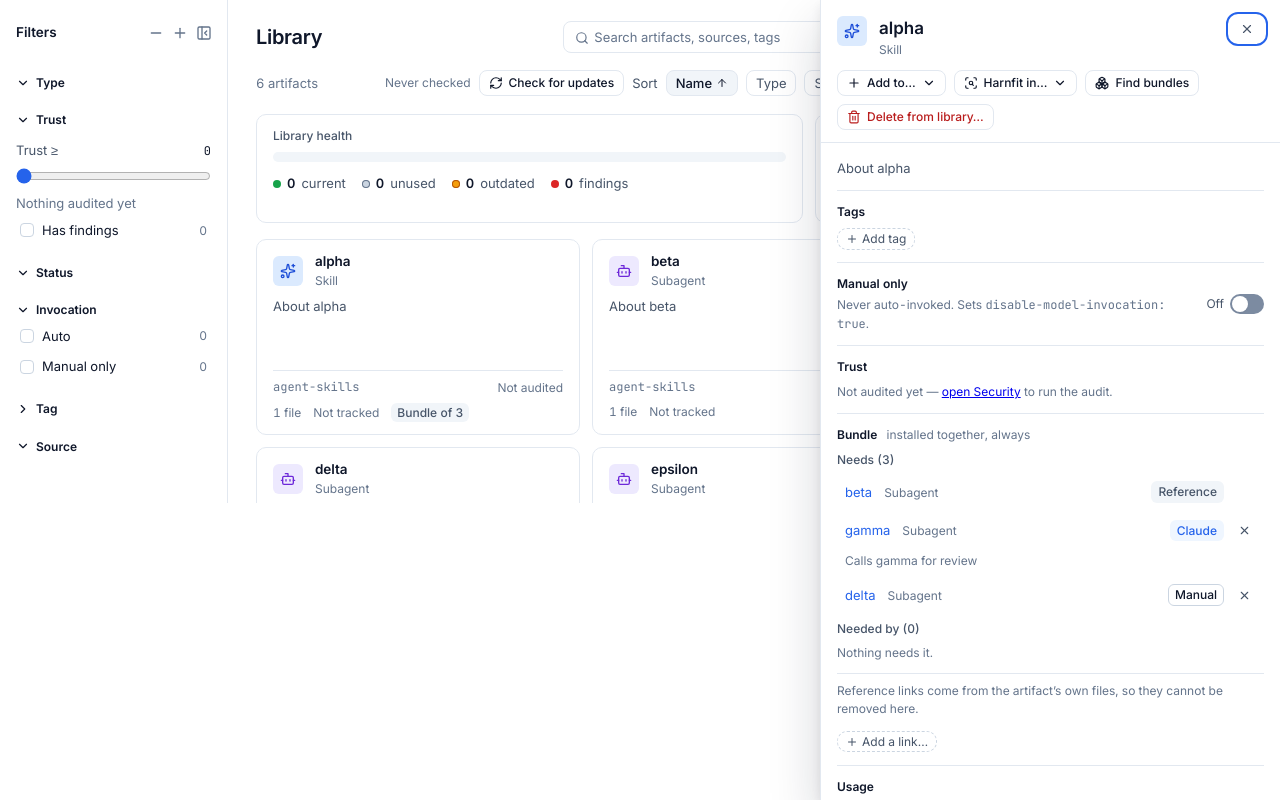
Test: bundles in the library › says when nothing matches and reports a failed add
Click the button "Add a link…" at point(887, 742), box [837,731,937,752]
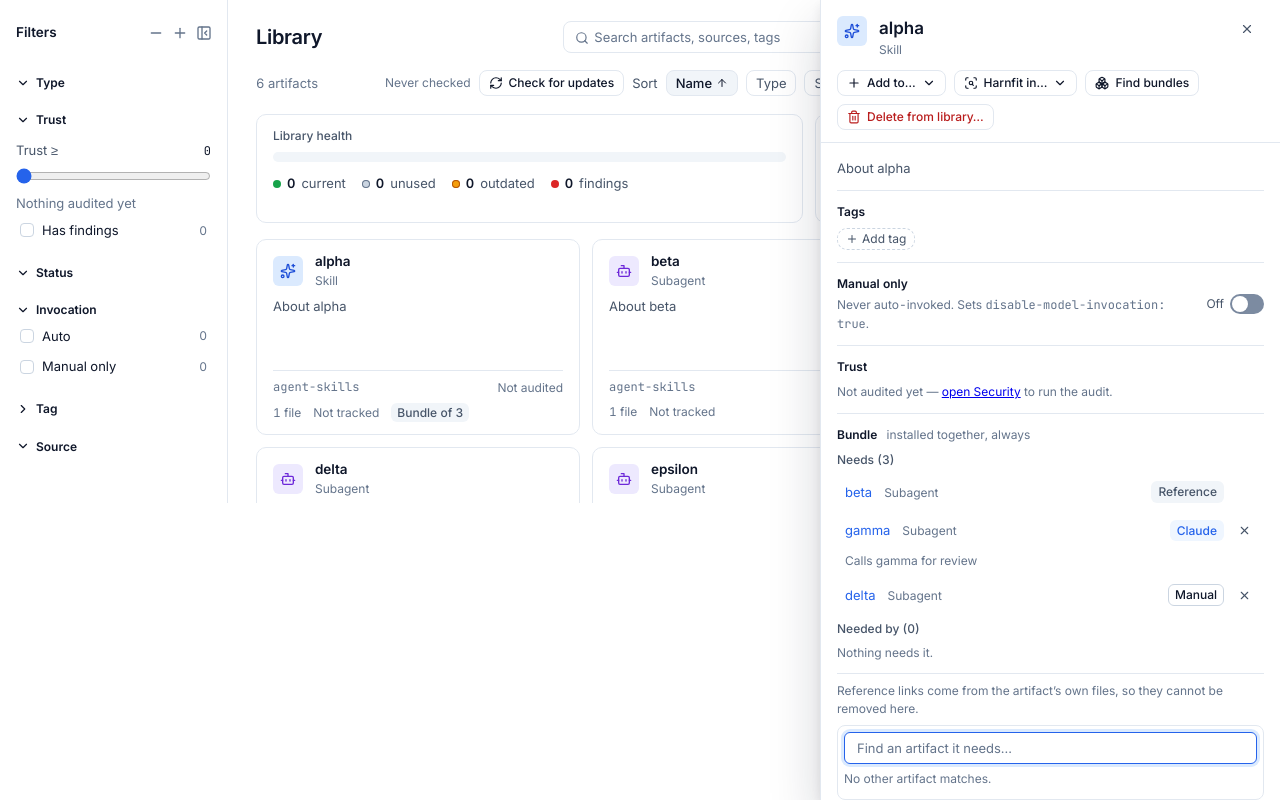
Type "nomatch" into the dropdown at point(1050, 748), box [844,732,1257,764]
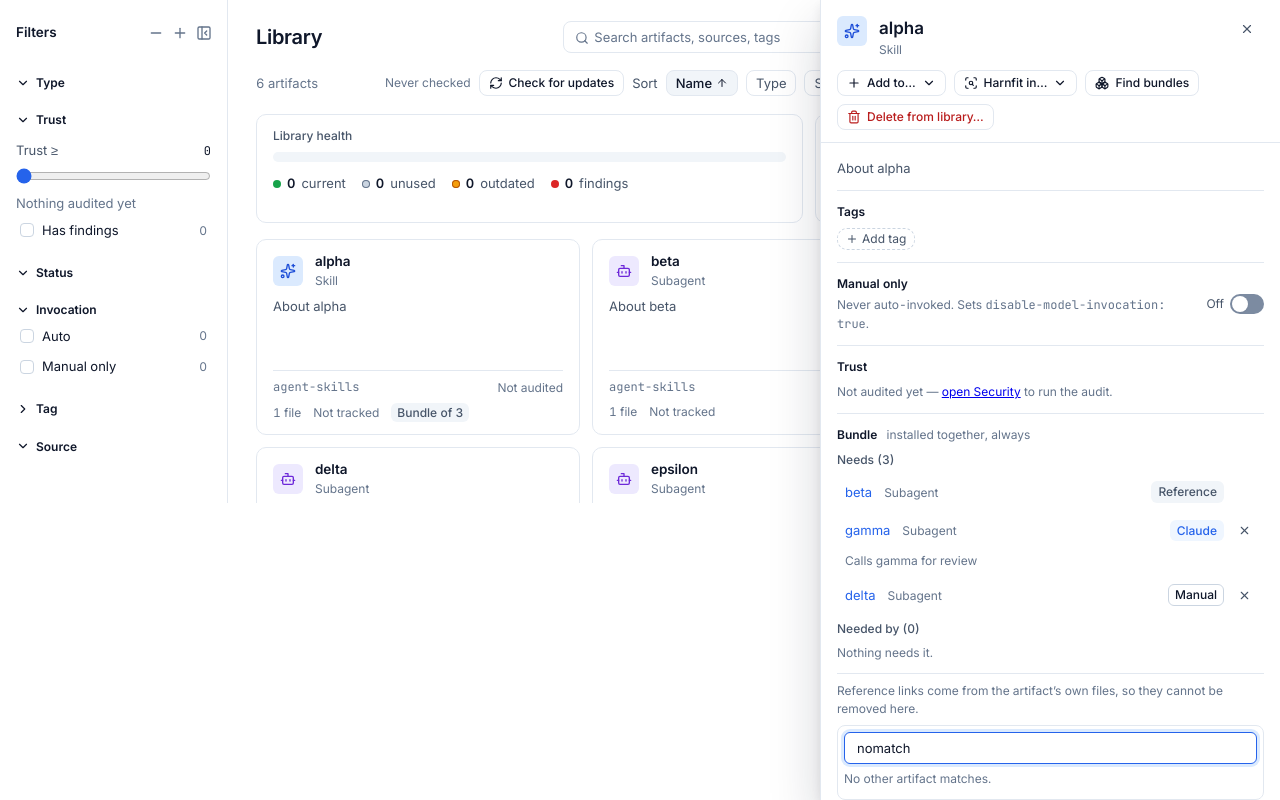
Expected: the text "No other artifact matches." is shown, [844,771,991,786]
Clear the dropdown at point(1050, 748), box [844,732,1257,764]
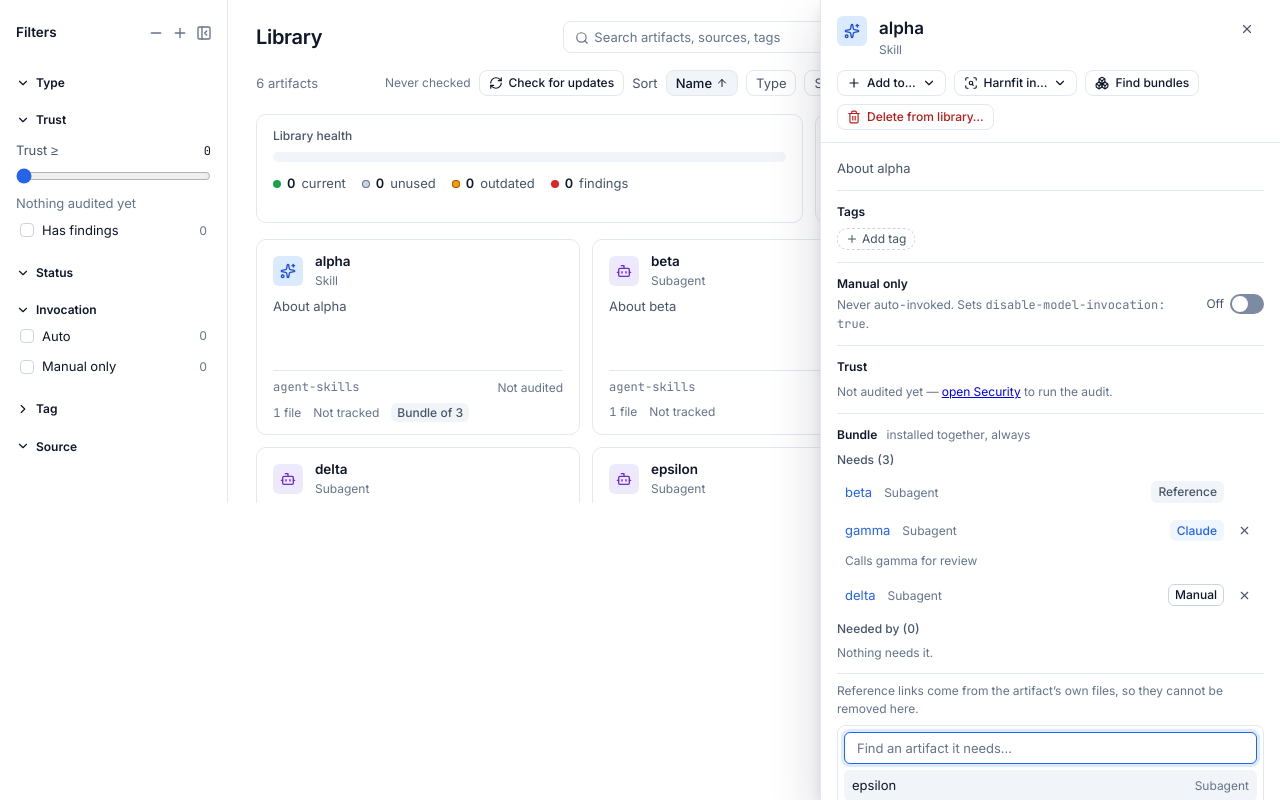
Click the option "epsilon Subagent" at point(874, 785), box [844,770,1257,799]
(page scrolled)
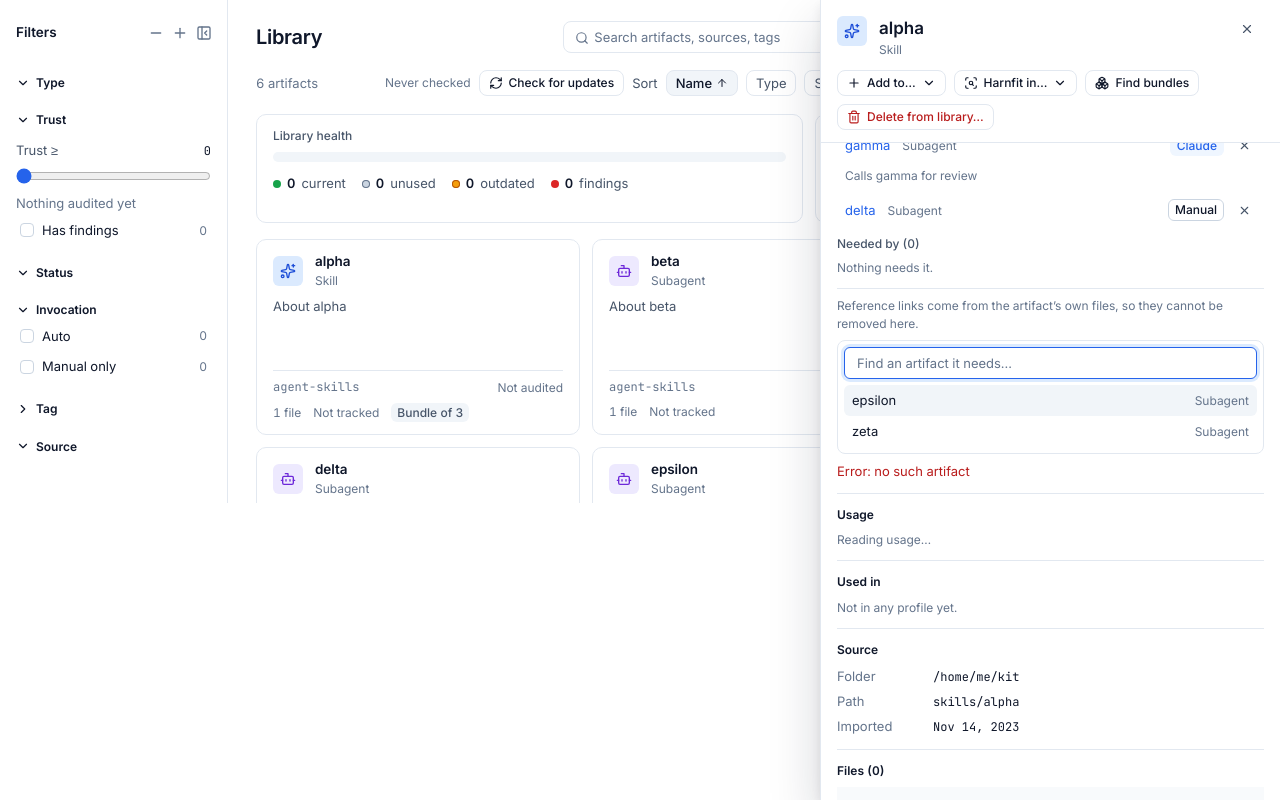
Expected: the message shows "no such artifact", [837,463,970,479]
